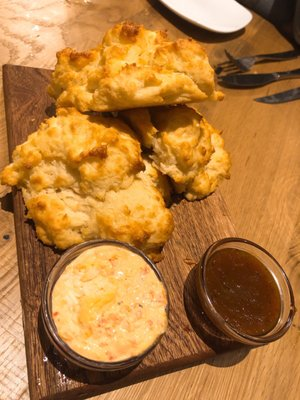sushi: (39, 239, 170, 385), (184, 237, 296, 348)
